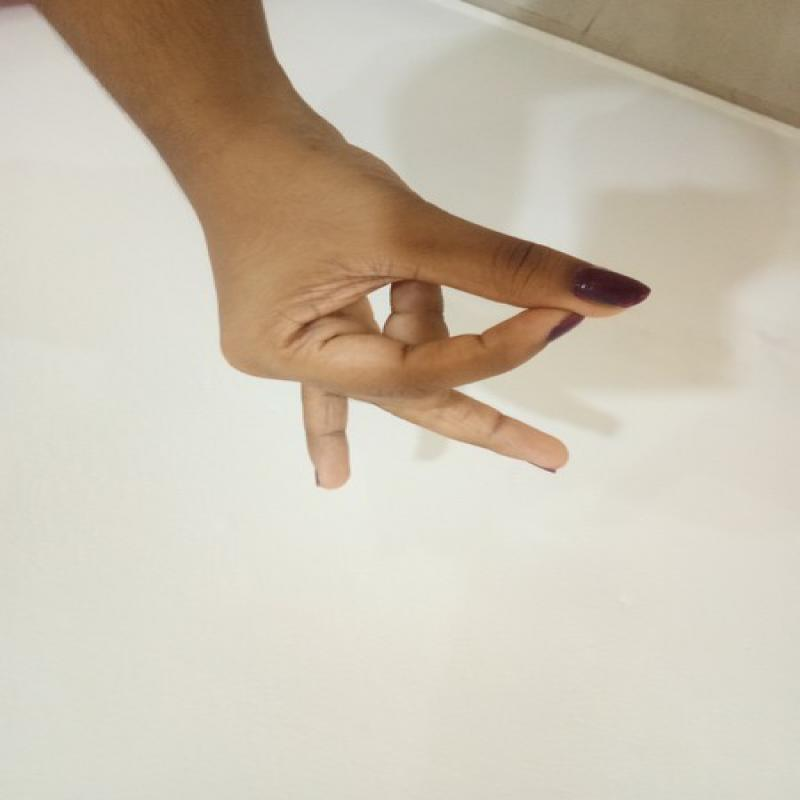Katakam: (197, 148, 661, 503)
